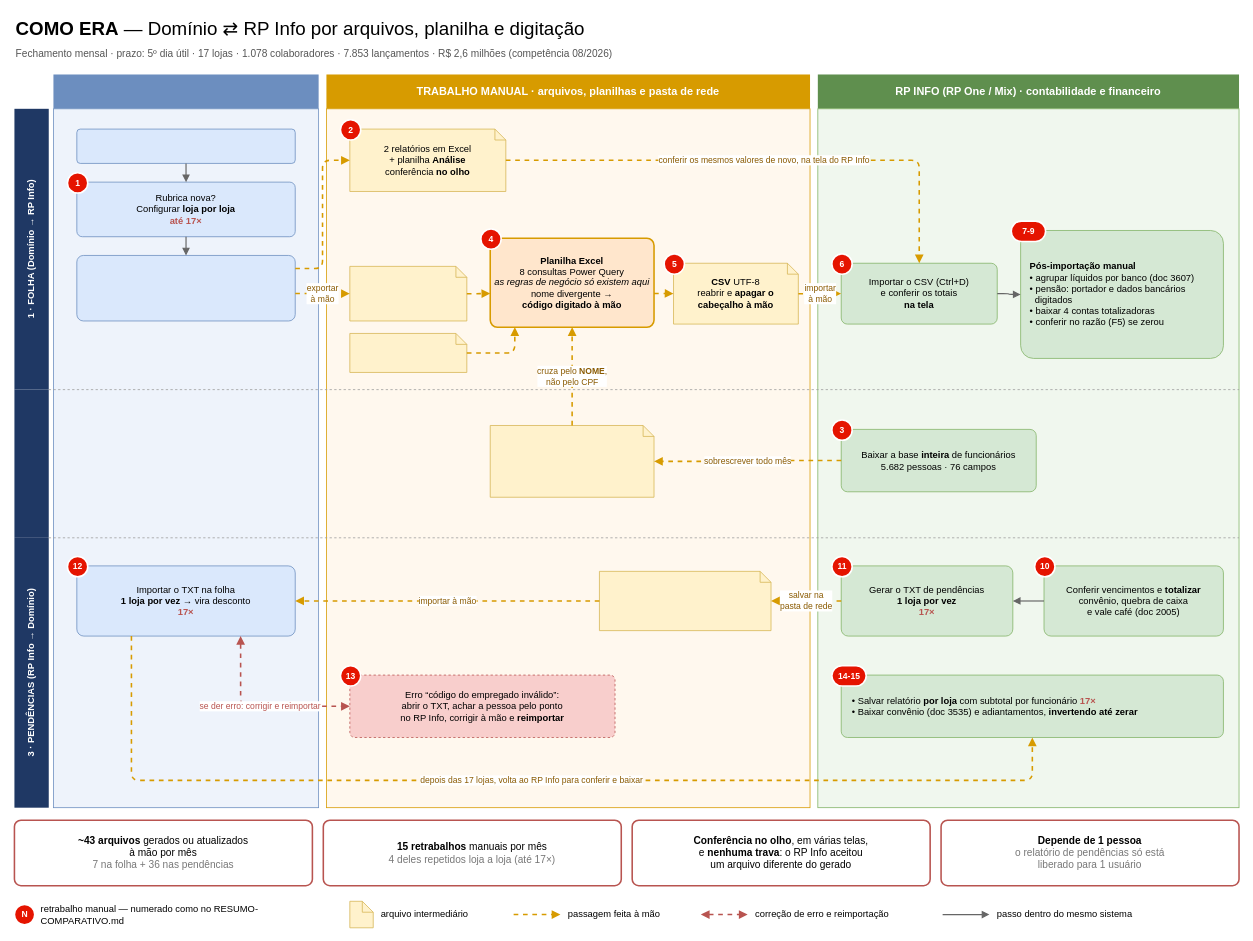
The diagram is 1253 pixels wide and 941 high, and some of its shapes have lost their labels. Each missing label, with the centre of its shape:
"17 arquivos TXT (1 por loja) layout documentado ≠ real" goes at (x=685, y=601).
"2 · FUNCIONÁRIOS" goes at (x=31, y=463).
"dfunc.txt na pasta de rede CPF, RG, salário, conta bancária risco LGPD" goes at (x=571, y=461).
"DOMÍNIO · calcula a folha" goes at (x=185, y=91).
"Exportar o TXT da folha e 2 relatórios (Integração Contábil e Resumo Mensal)" goes at (x=185, y=288).
"Fechar a folha" goes at (x=185, y=145).
"Plano Gerencial RP.txt (plano de contas)" goes at (x=408, y=352).
"TXT da folha 6.849 linhas" goes at (x=408, y=293).
